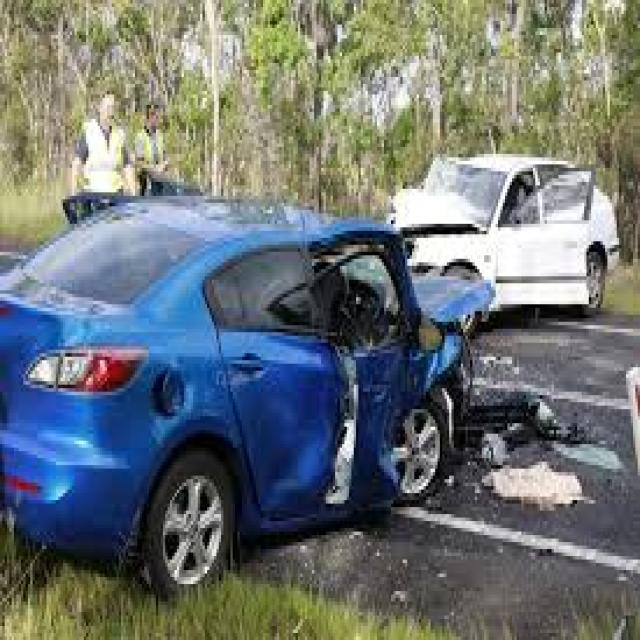accident: (266, 163, 593, 551)
